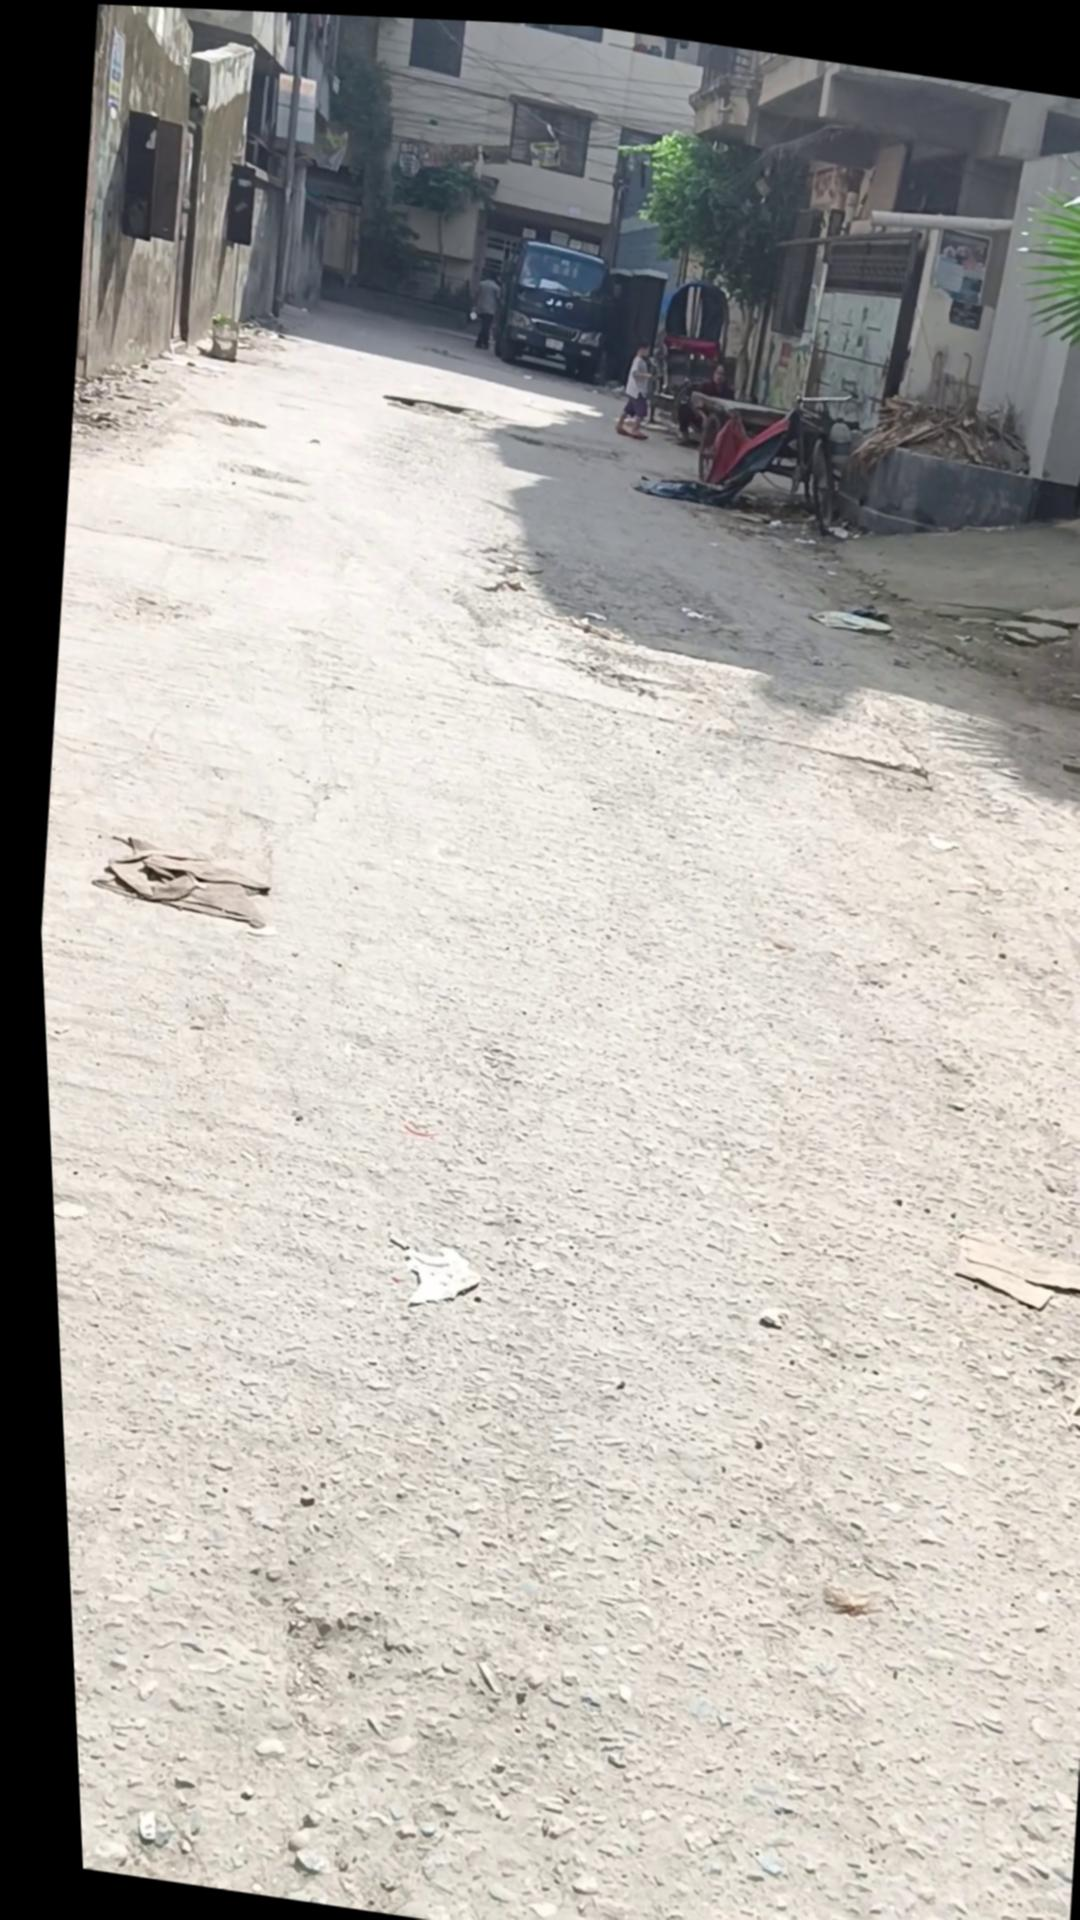Broken-road: (9, 251, 1080, 1920)
Crosswalk: (818, 425, 1073, 554), (1055, 493, 1080, 686)
Motorcycle: (202, 309, 239, 360)
Muddy road: (666, 351, 736, 446), (608, 335, 658, 435), (464, 265, 502, 347)
Pothole: (620, 340, 873, 530), (633, 265, 736, 433)
Traffic-sign: (484, 229, 613, 378)
